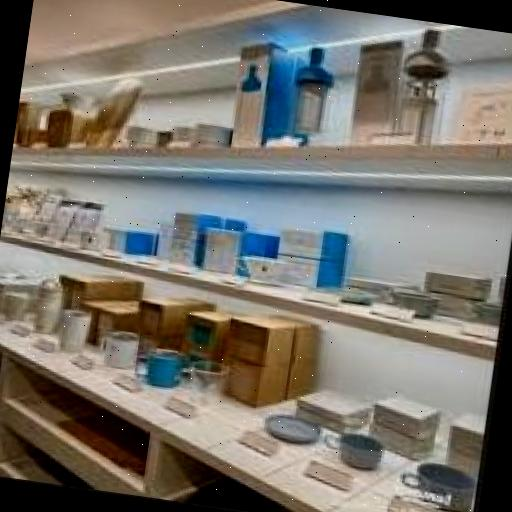bottle: (291, 42, 334, 90)
